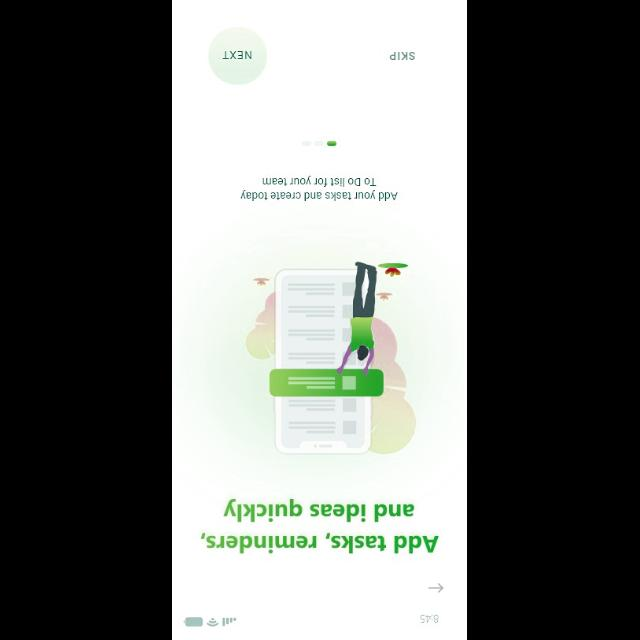icon: (428, 582, 444, 592)
image: (246, 262, 417, 456)
pageindicator: (300, 140, 338, 148)
text: (201, 498, 439, 554), (240, 175, 398, 201), (390, 51, 416, 61)
textbutton: (208, 26, 268, 86)
uppertaskbar: (184, 614, 440, 626)
